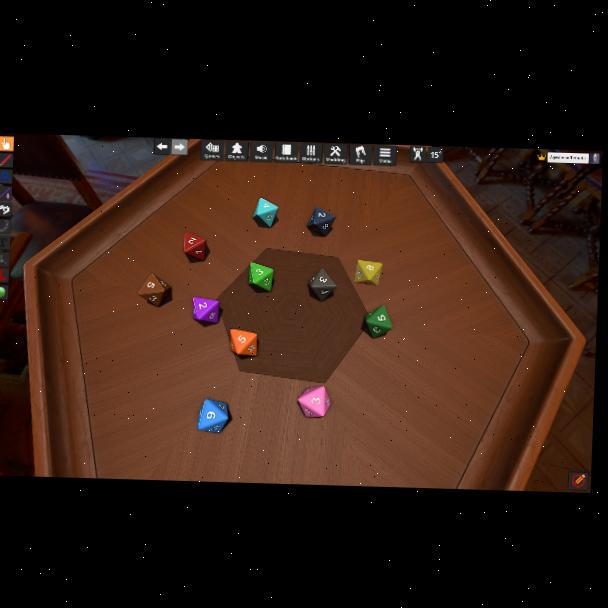d8: (294, 384, 333, 420), (138, 273, 171, 306), (198, 399, 230, 433), (308, 267, 337, 302), (364, 306, 393, 339), (307, 206, 335, 238), (352, 259, 385, 286), (253, 196, 280, 226), (192, 297, 221, 324), (230, 329, 258, 356), (249, 262, 274, 290), (184, 233, 207, 261)
